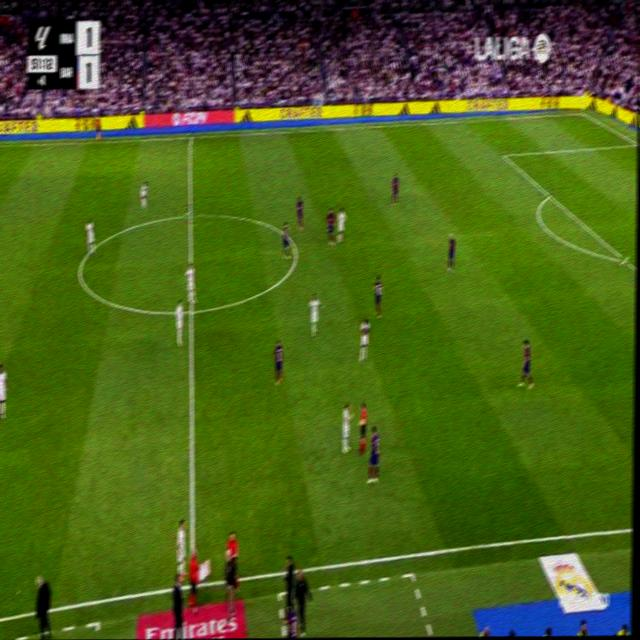bigarea_top_inner: (500, 147, 507, 161)
bottom_arc_area_intersection: (620, 251, 630, 267)
halfcircle_bottom: (187, 301, 196, 321)
halfcircle_top: (184, 204, 196, 226)
midline_top_intersection: (186, 130, 195, 145)
top_arc_area_intersection: (545, 188, 554, 201)
